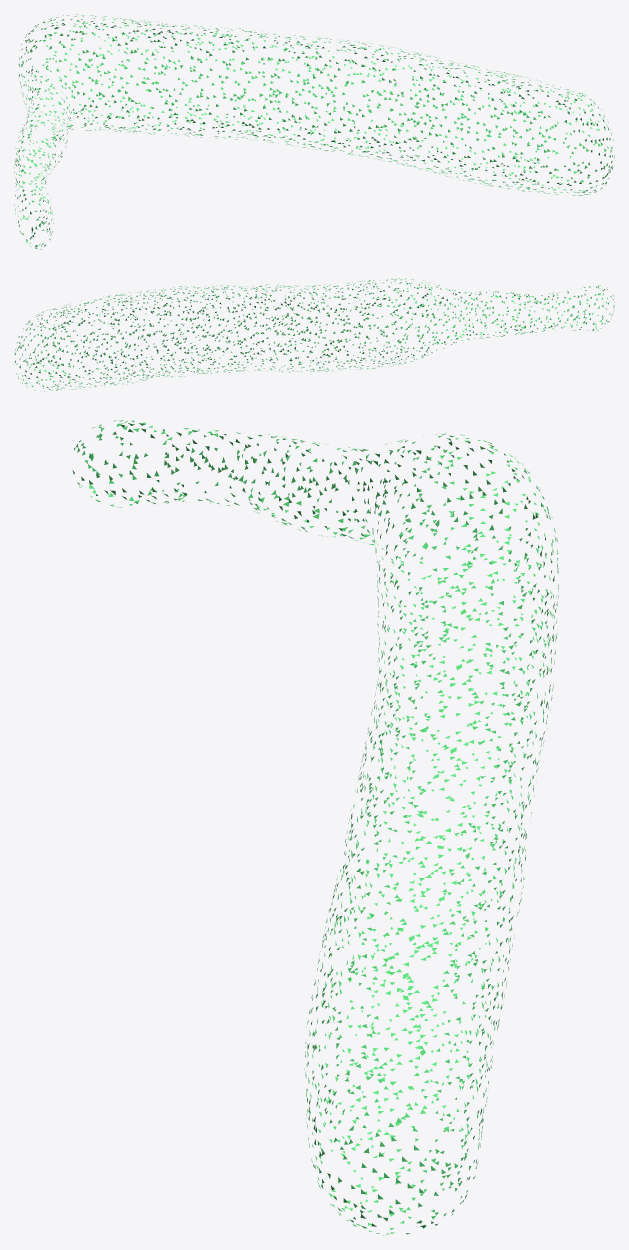
Rendered from morph_020.glb.
3 renders of one model, top to bottom at view 1: azimuth 30°, elevation 25°; view 2: azimuth 150°, elevation 25°; view 3: azimuth 270°, elevation 25°, orthographic. The views are drawn at different scales.
Bounding box in the file's own units: 148 × 57.85 × 61.36.
